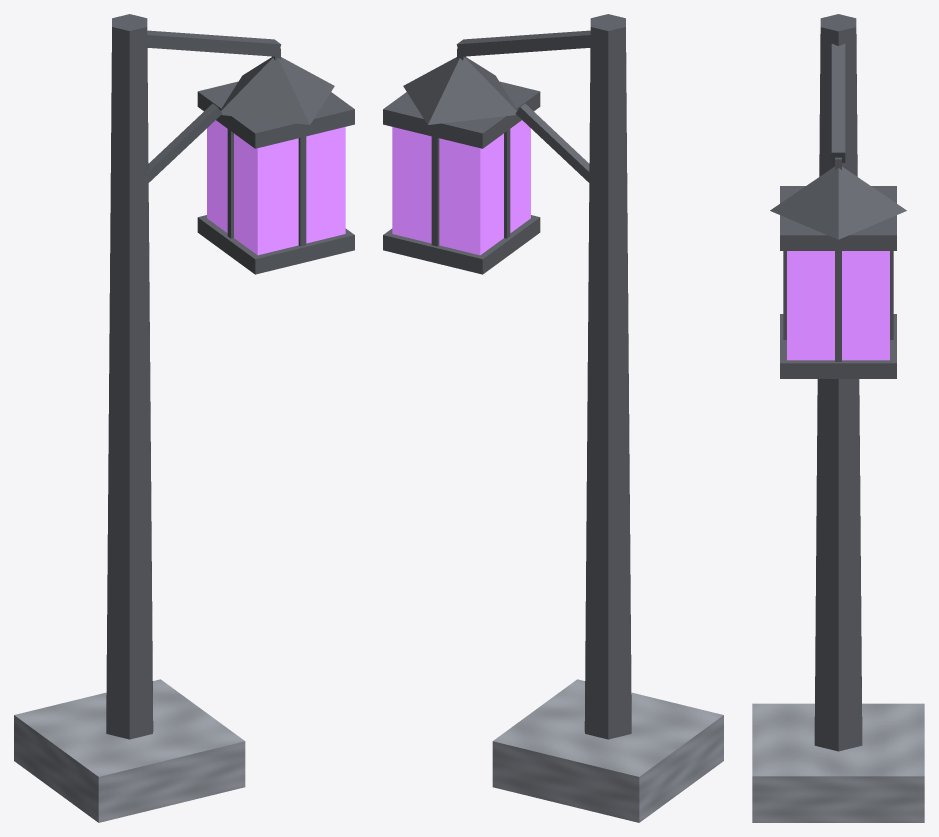
The picture shows the model from 3 angles, left to right: view 1: azimuth 30°, elevation 25°; view 2: azimuth 150°, elevation 25°; view 3: azimuth 270°, elevation 25°; orthographic projection.
Visible parts, largest first — view 1: lantern-post; view 2: lantern-post; view 3: lantern-post.
Part boxes in pixels (box(x1,y1,x2,y2)): lantern-post: box(14, 14, 354, 822); lantern-post: box(383, 14, 723, 822); lantern-post: box(752, 14, 924, 822).
Size of the model in its own units: 0.95 by 2.45 by 0.5.
3 materials, 1 textured.
